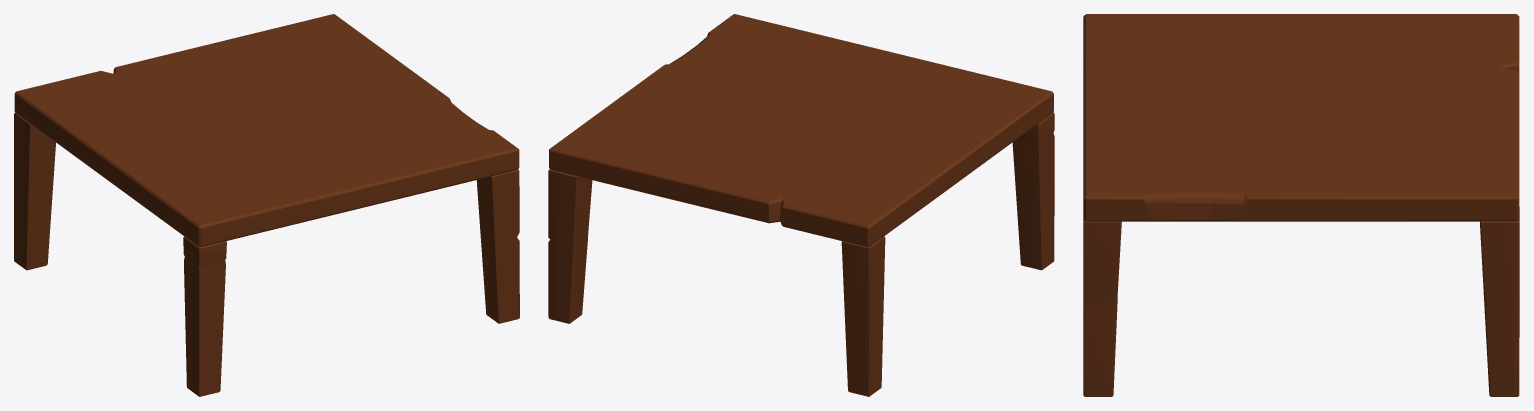
File: stage.gltf
The picture shows the model from 3 angles, left to right: view 1: azimuth 30°, elevation 25°; view 2: azimuth 150°, elevation 25°; view 3: azimuth 270°, elevation 25°; orthographic projection. The views are drawn at different scales.
Parts seen in each view (by area): view 1: table; view 2: table; view 3: table.
Part boxes in pixels (box(x1,y1,x2,y2)): table: box(14, 14, 519, 396); table: box(548, 14, 1054, 396); table: box(1083, 14, 1519, 396).
Size of the model in its own units: 1.74 by 0.8852 by 1.75.
